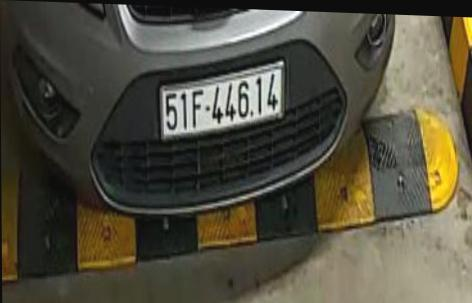License_Plate: (153, 59, 299, 147)
